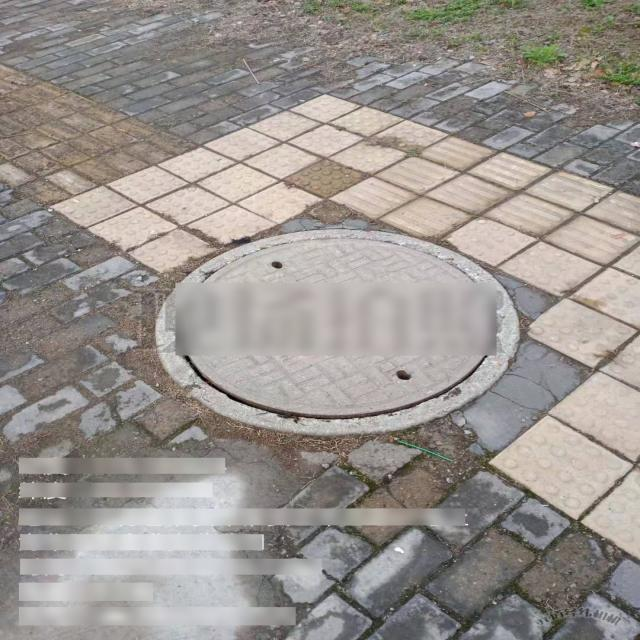Good: (152, 228, 518, 436)
